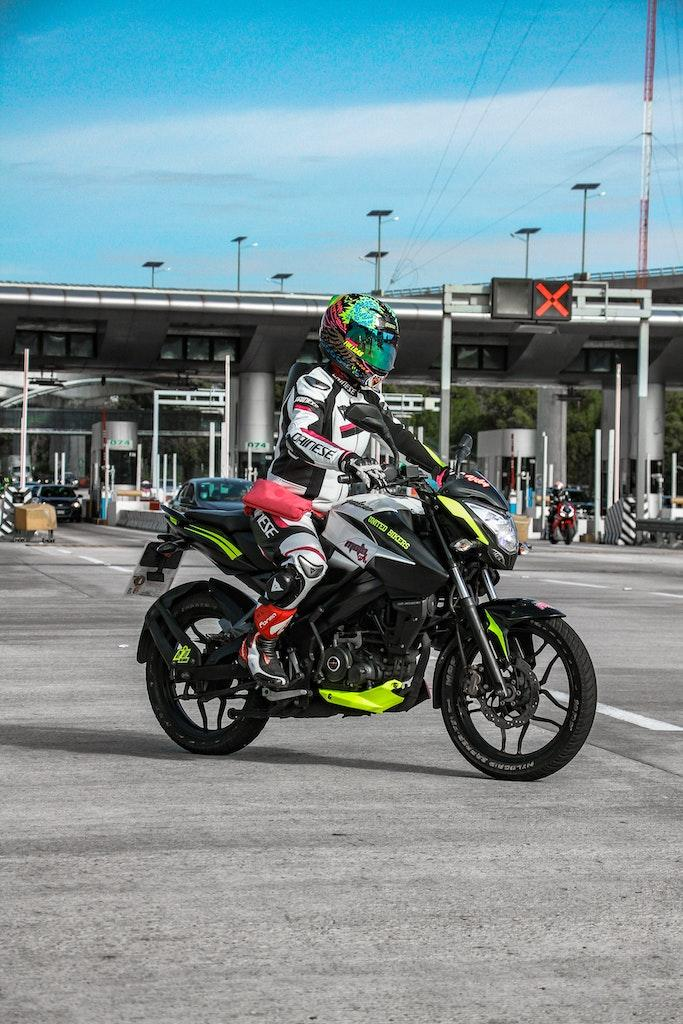helmet: (317, 292, 401, 391)
